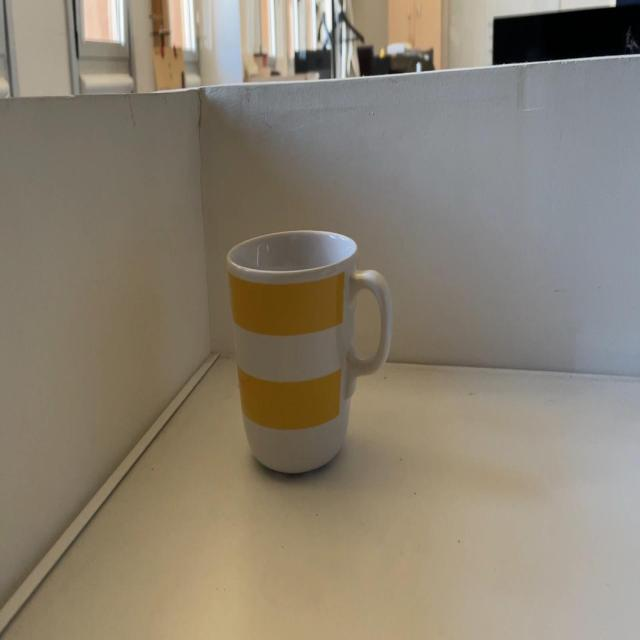cup: (221, 224, 416, 478)
